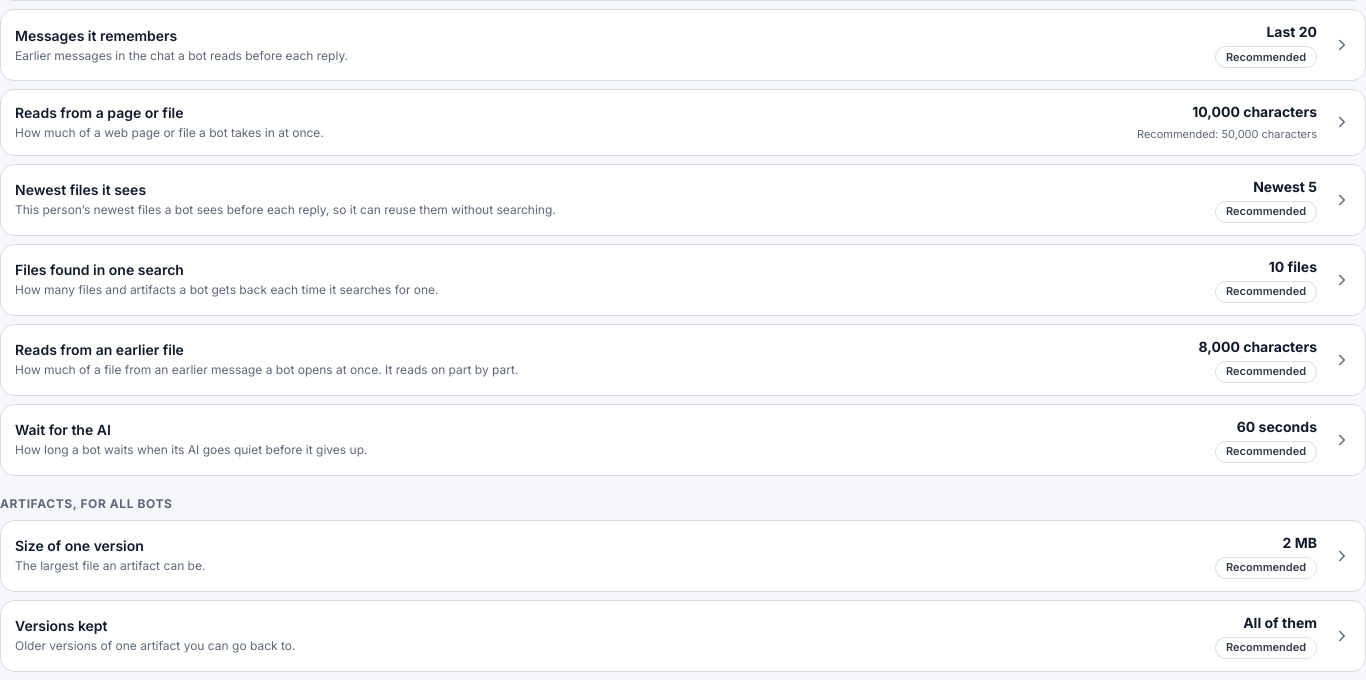
it: Universe AI limits › turns down "Reads from an earlier file" above "Reads from a page or file" with the line that says why, never cutting it
The image size is (1366, 680).
(page scrolled)
Click the button with test id "limit-part".
click(99, 350)  # box [0,324,1365,396]
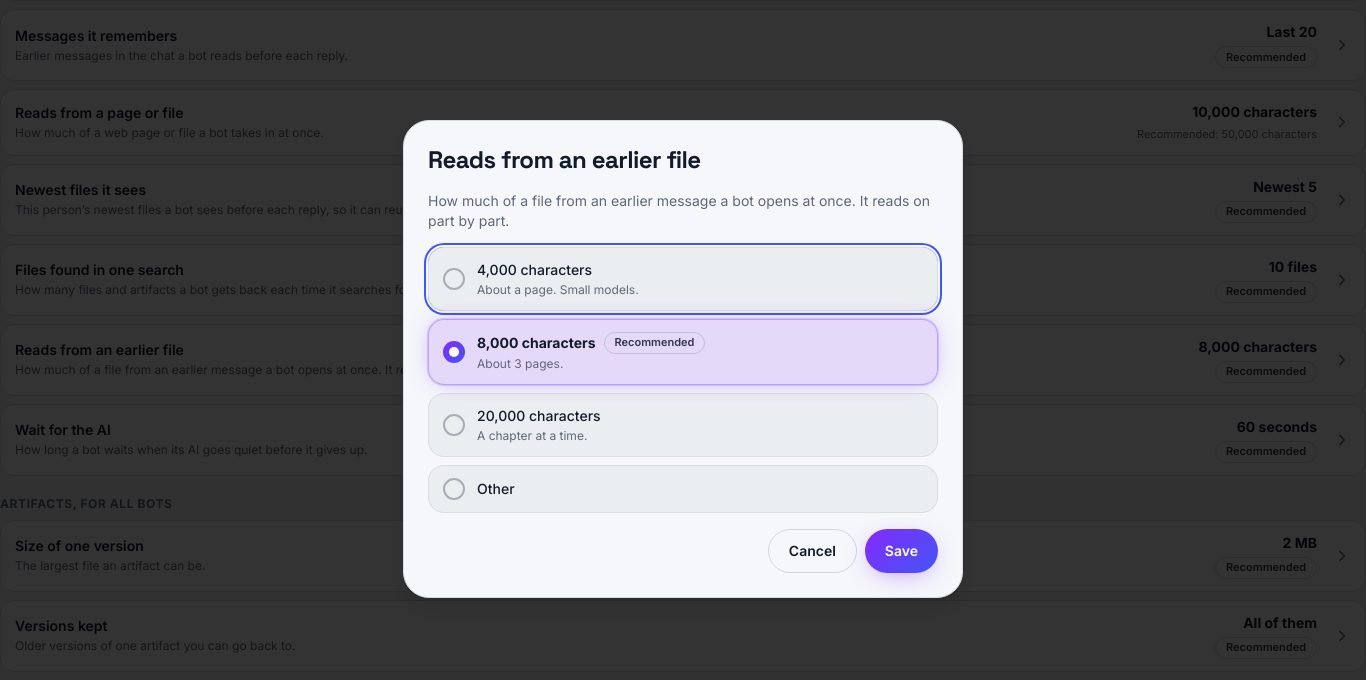
Click the radio button labelled "20,000 characters A chapter at a time.".
click(539, 416)  # box [428,393,938,457]
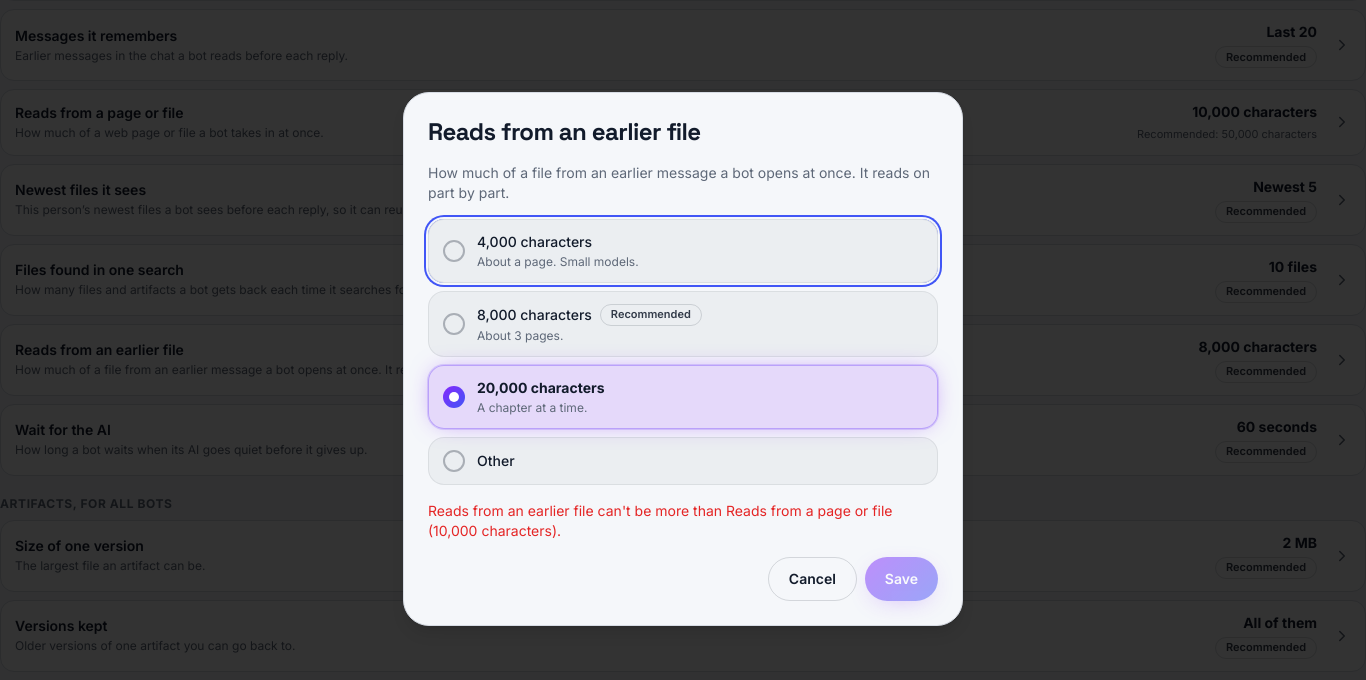
Now the message with test id "limit-part-above" shows "Reads from an earlier file can't be more than Reads from a page or file (10,000 characters).", box [428,502,892,539]
Now the button "Save" is disabled, box [865,557,938,601]
